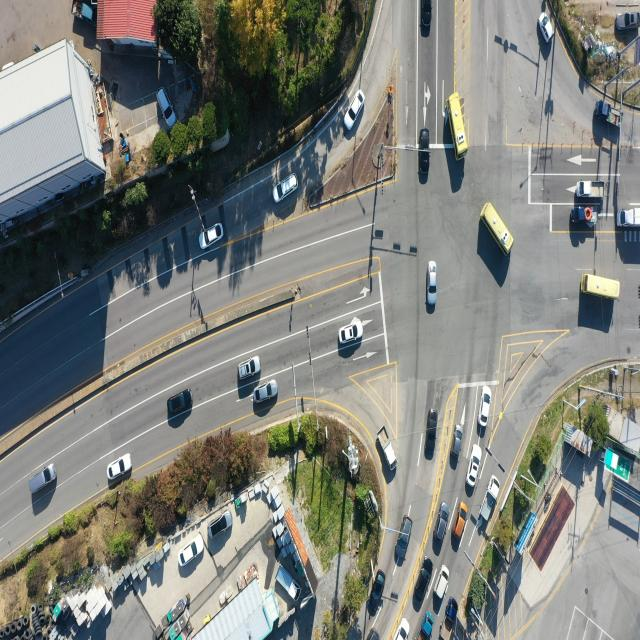car: (394, 515, 412, 566), (450, 499, 468, 548), (30, 465, 57, 496), (179, 533, 205, 565), (367, 570, 385, 616), (344, 91, 364, 132), (158, 86, 177, 127), (273, 176, 298, 207), (415, 560, 433, 602), (424, 410, 438, 462), (469, 442, 485, 486), (170, 391, 195, 417), (340, 319, 364, 346), (201, 224, 225, 251), (110, 456, 134, 483), (210, 510, 233, 538), (451, 423, 464, 468), (238, 355, 261, 380), (437, 502, 451, 542), (480, 386, 493, 429), (253, 380, 278, 402), (436, 566, 451, 601), (426, 260, 437, 305), (538, 10, 553, 42), (615, 10, 640, 29), (422, 0, 432, 38), (393, 618, 410, 640), (421, 128, 430, 154)
medium_truck: (617, 208, 640, 229)
small_bus: (482, 200, 514, 256), (445, 92, 467, 160), (582, 274, 620, 300)
small_truck: (479, 476, 502, 525), (274, 563, 302, 599), (377, 426, 398, 473), (595, 100, 622, 126), (576, 179, 606, 199), (71, 0, 95, 24), (572, 206, 598, 226), (420, 614, 434, 640)
